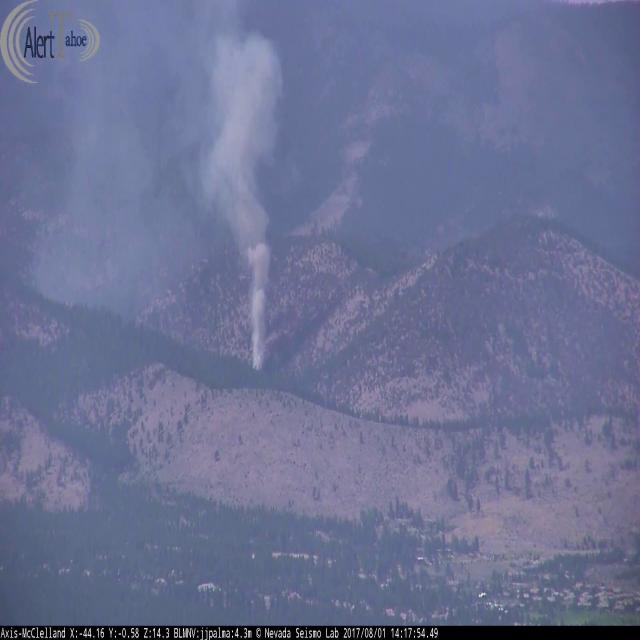smoke: (196, 16, 293, 382)
